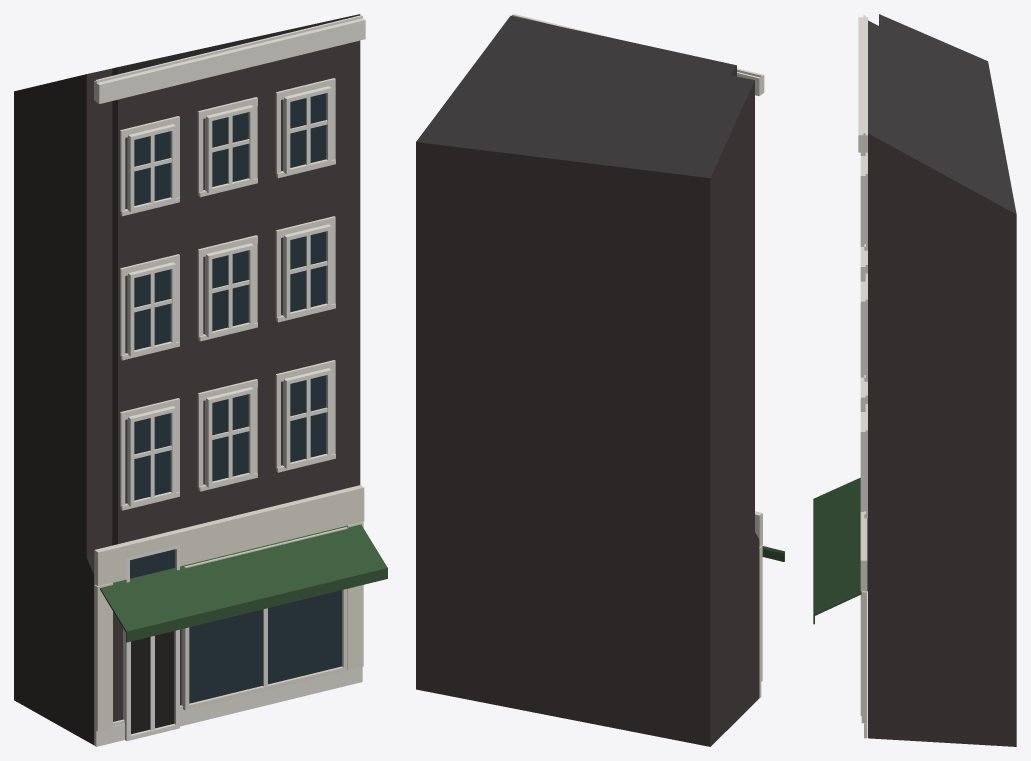
3 renders of one model, left to right at view 1: azimuth 30°, elevation 25°; view 2: azimuth 150°, elevation 25°; view 3: azimuth 270°, elevation 25°, orthographic. The views are drawn at different scales.
Visible parts, largest first — view 1: spec-0363100012571534; view 2: spec-0363100012571534; view 3: spec-0363100012571534.
Part boxes in pixels (left/top/right/bottom): spec-0363100012571534: left=14, top=14, right=387, bottom=746; spec-0363100012571534: left=416, top=14, right=784, bottom=746; spec-0363100012571534: left=813, top=14, right=1016, bottom=746.
Bounding box in the file's own units: 5.74 × 12.31 × 3.72.
